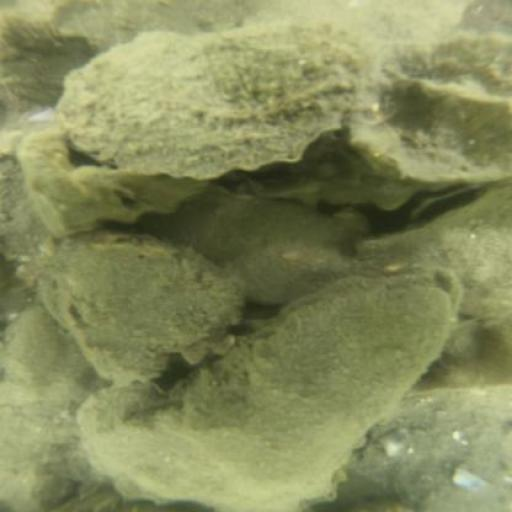Oyster-Closed: (146, 282, 450, 497), (57, 17, 394, 174), (35, 235, 243, 381), (361, 184, 509, 332), (186, 198, 359, 299)
Oyster-Open: (408, 180, 490, 224)
